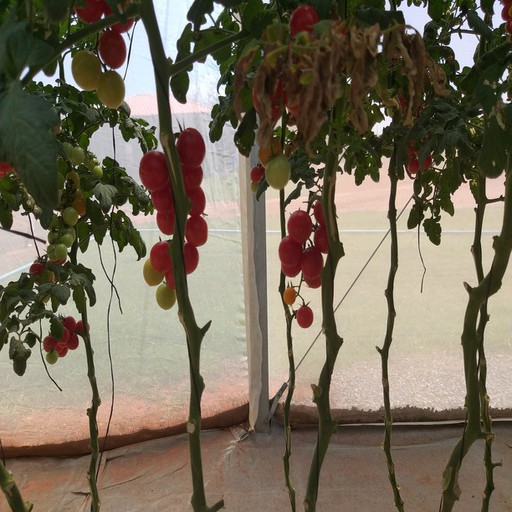green tomato bunch: (71, 1, 136, 112), (23, 190, 81, 263), (60, 136, 108, 177)
mixed tomato bunch: (256, 19, 326, 195)
red tomato bunch: (139, 127, 205, 285), (276, 197, 343, 287), (41, 318, 90, 356), (402, 130, 436, 170)
